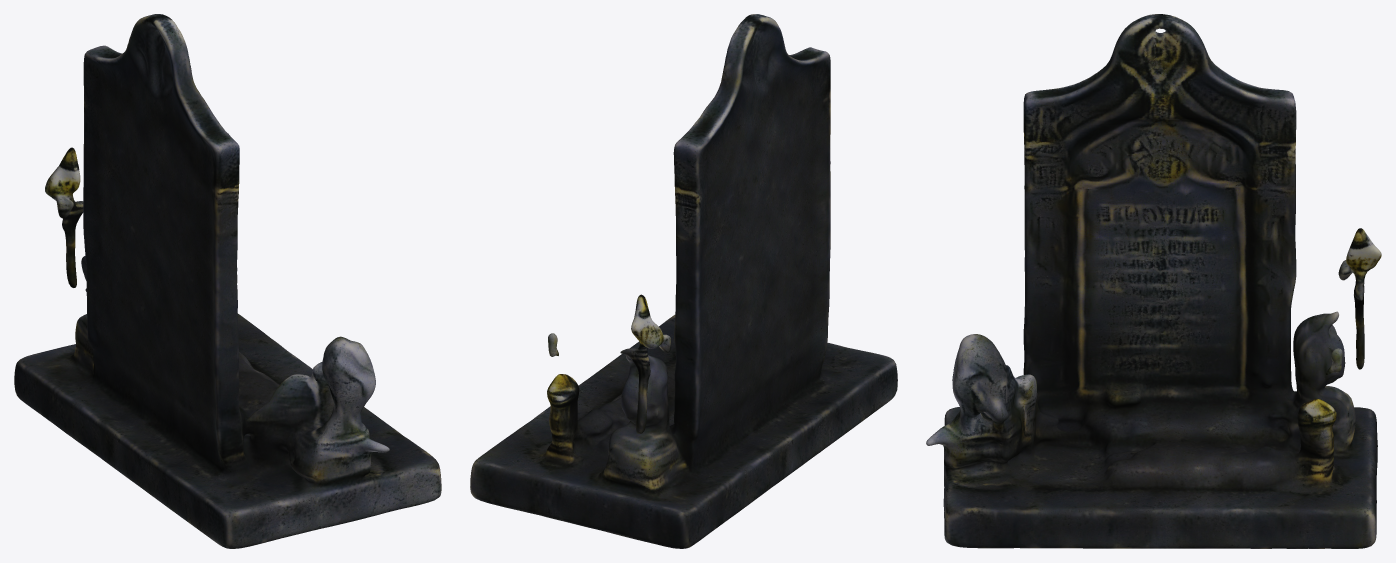
File: altar.glb
The picture shows the model from 3 angles, left to right: view 1: azimuth 30°, elevation 25°; view 2: azimuth 150°, elevation 25°; view 3: azimuth 270°, elevation 25°; orthographic projection.
Parts seen in each view (by area): view 1: model; view 2: model; view 3: model.
Part boxes in pixels (bbox=[...]): model: bbox=[14, 14, 441, 548]; model: bbox=[470, 14, 897, 548]; model: bbox=[926, 14, 1381, 548].
Size of the model in its own units: 0.6879 by 1.34 by 1.23.
1 material, 1 textured.
